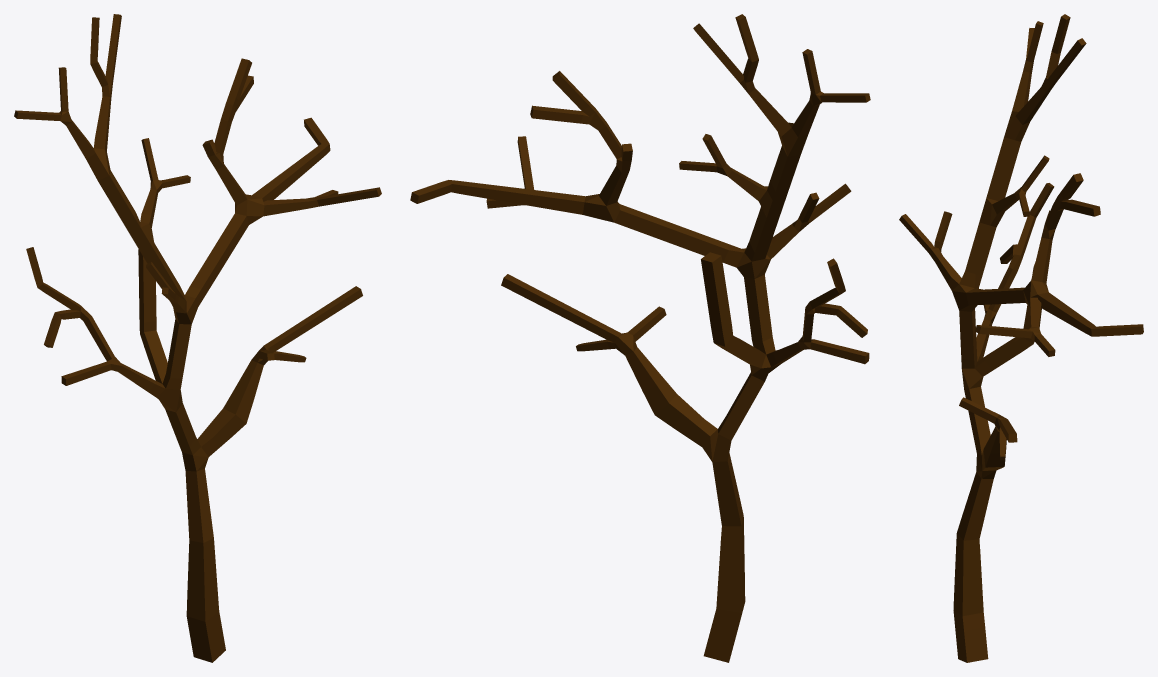
The model's file is tree_a1.fbx.
3 renders of one model, left to right at view 1: azimuth 30°, elevation 25°; view 2: azimuth 150°, elevation 25°; view 3: azimuth 270°, elevation 25°, orthographic. The views are drawn at different scales.
Visible parts, largest first — view 1: Plane; view 2: Plane; view 3: Plane.
Boxes of the visible parts, x1,y1,x2,y2 form: Plane: (14,14,381,662); Plane: (410,14,870,662); Plane: (899,14,1143,662).
Bounding box in the file's own units: 567 × 955 × 346.
